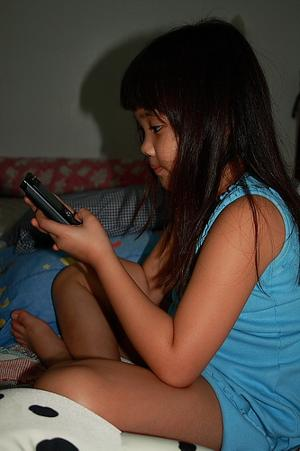person: (10, 23, 300, 450)
